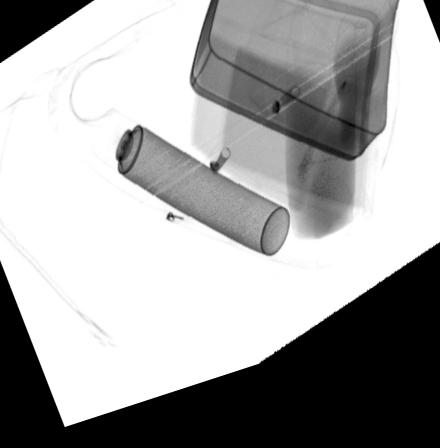Sprayer: (93, 114, 292, 275)
